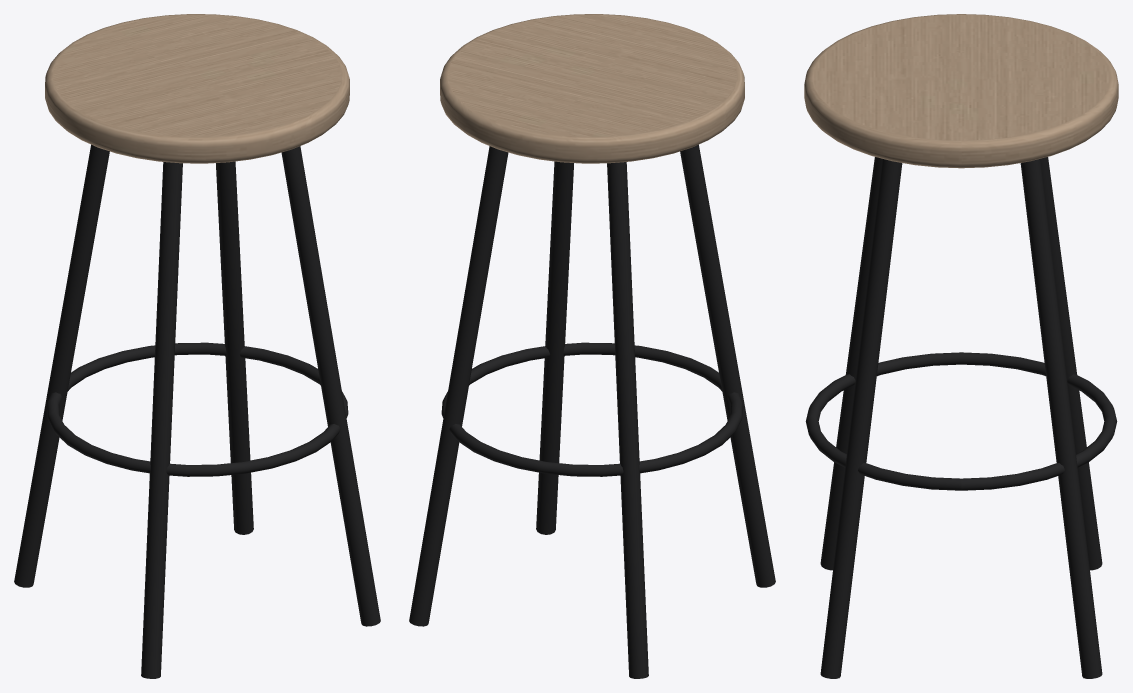
File: bar_stool_black.glb
3 renders of one model, left to right at view 1: azimuth 30°, elevation 25°; view 2: azimuth 150°, elevation 25°; view 3: azimuth 270°, elevation 25°, orthographic. The views are drawn at different scales.
Visible parts, largest first — view 1: bar_stool_smooth, bar_stool_hard; view 2: bar_stool_smooth, bar_stool_hard; view 3: bar_stool_hard, bar_stool_smooth.
Part boxes in pixels (left/top/right/bottom): bar_stool_smooth: left=14, top=144, right=380, bottom=678; bar_stool_hard: left=45, top=14, right=349, bottom=163; bar_stool_smooth: left=409, top=144, right=775, bottom=678; bar_stool_hard: left=440, top=14, right=744, bottom=163; bar_stool_hard: left=804, top=14, right=1118, bottom=168; bar_stool_smooth: left=805, top=157, right=1117, bottom=678.
Bounding box in the file's own units: 0.34 × 0.6487 × 0.34.
Materials: 2 (1 with a texture image).
